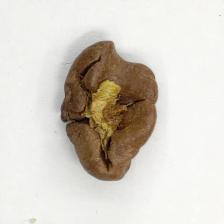NG: (59, 38, 161, 183)
